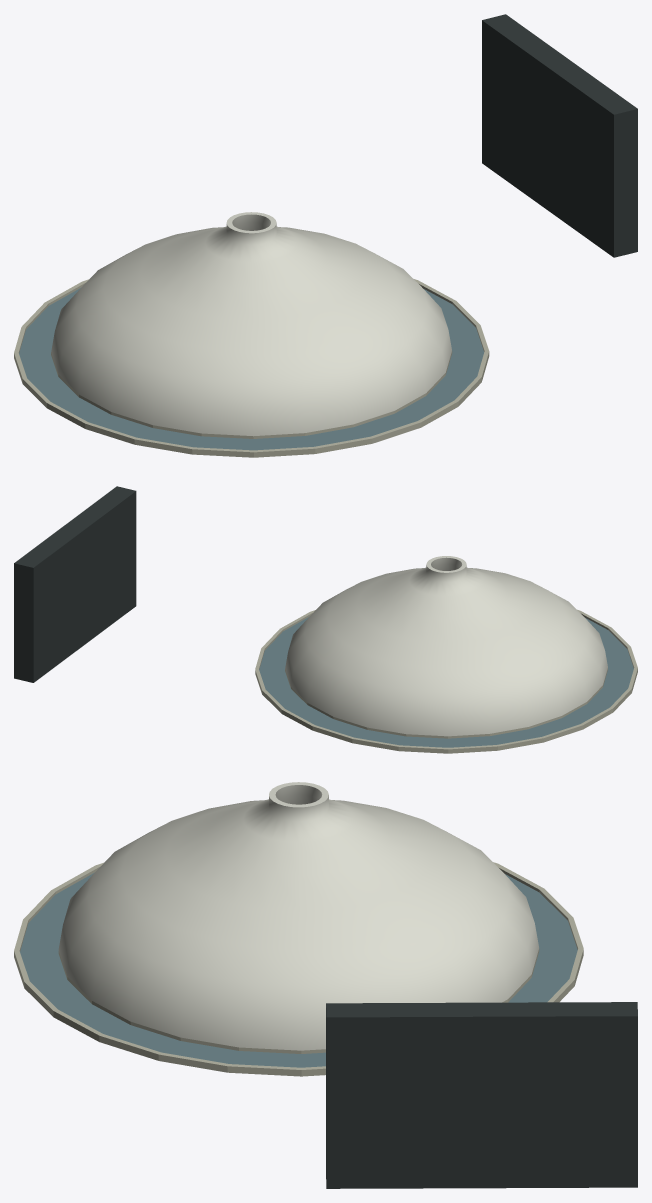
Rendered from shrine-of-the-book-far.glb.
3 renders of one model, top to bottom at view 1: azimuth 30°, elevation 25°; view 2: azimuth 150°, elevation 25°; view 3: azimuth 270°, elevation 25°, orthographic. The views are drawn at different scales.
Visible parts, largest first — view 1: shrine-of-the-book-0-lamp, shrine-of-the-book-0-basalt, shrine-of-the-book-0-water, shrine-of-the-book-0-stone; view 2: shrine-of-the-book-0-lamp, shrine-of-the-book-0-basalt, shrine-of-the-book-0-water, shrine-of-the-book-0-stone; view 3: shrine-of-the-book-0-lamp, shrine-of-the-book-0-basalt, shrine-of-the-book-0-water, shrine-of-the-book-0-stone.
Boxes of the visible parts, box(x1,y1,x2,y2) form: shrine-of-the-book-0-lamp: box(51, 212, 451, 436); shrine-of-the-book-0-basalt: box(482, 14, 637, 257); shrine-of-the-book-0-water: box(19, 287, 484, 450); shrine-of-the-book-0-stone: box(14, 279, 489, 457); shrine-of-the-book-0-lamp: box(285, 556, 607, 736); shrine-of-the-book-0-basalt: box(14, 486, 136, 682); shrine-of-the-book-0-water: box(259, 617, 633, 747); shrine-of-the-book-0-stone: box(255, 609, 637, 753); shrine-of-the-book-0-lamp: box(58, 782, 538, 1050); shrine-of-the-book-0-basalt: box(326, 1002, 637, 1188); shrine-of-the-book-0-water: box(20, 872, 577, 1067); shrine-of-the-book-0-stone: box(14, 862, 583, 1076).
Bounding box in the file's own units: 37.54 × 8.5 × 28.03.
